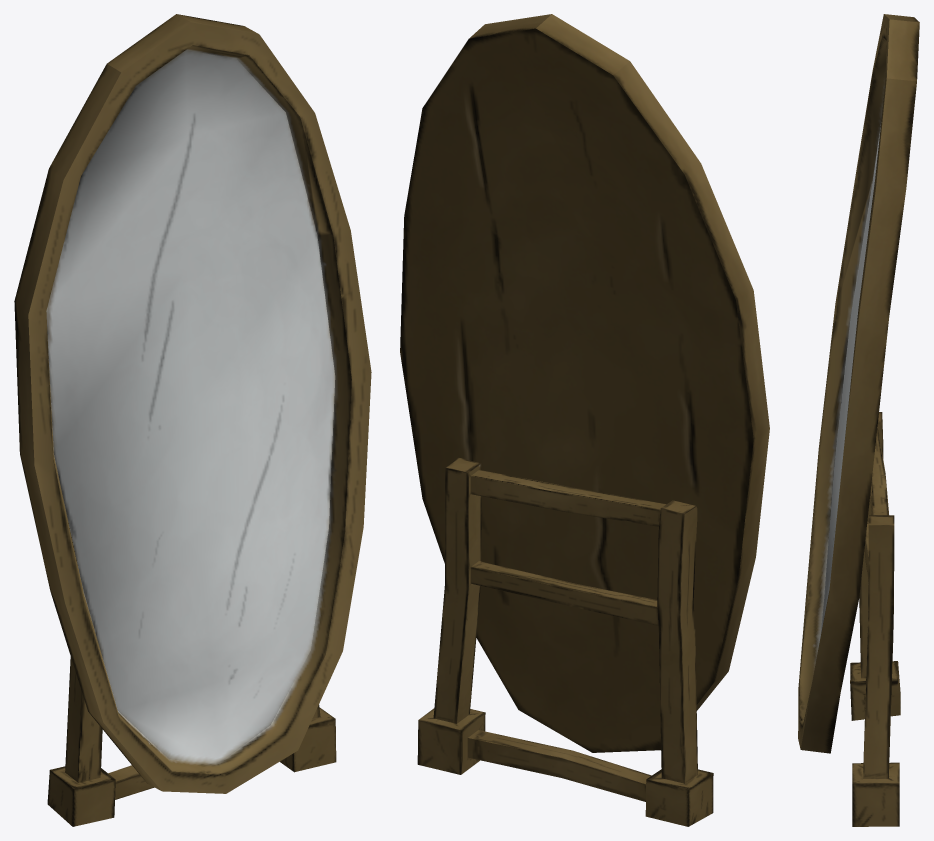
File: Mirror.fbx
The picture shows the model from 3 angles, left to right: view 1: azimuth 30°, elevation 25°; view 2: azimuth 150°, elevation 25°; view 3: azimuth 270°, elevation 25°; orthographic projection. The views are drawn at different scales.
Visible parts, largest first — view 1: Mirror; view 2: Mirror; view 3: Mirror.
Boxes of the visible parts, x1,y1,x2,y2 form: Mirror: [14, 14, 371, 826]; Mirror: [400, 14, 769, 826]; Mirror: [798, 14, 919, 826].
Size of the model in its own units: 79.6 by 169 by 24.95.
1 material, 1 textured.
